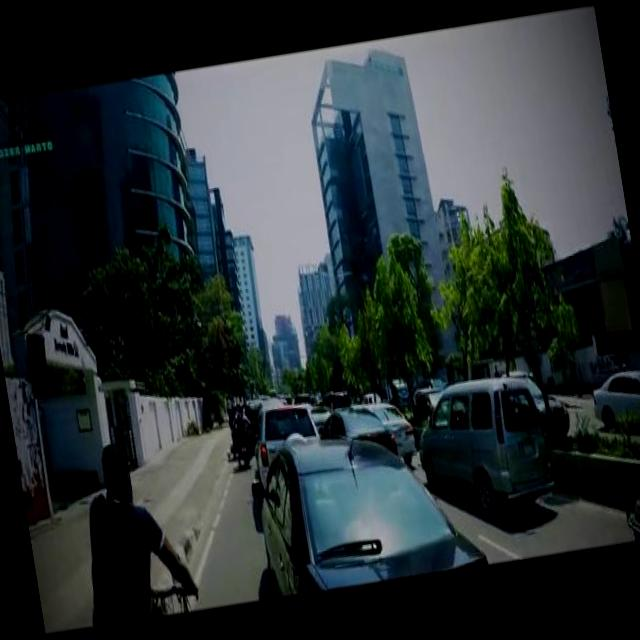car: (248, 408, 488, 594), (246, 393, 323, 491), (314, 401, 396, 468), (587, 364, 640, 430), (524, 368, 570, 433), (368, 394, 416, 456)
truck: (406, 368, 552, 508)
